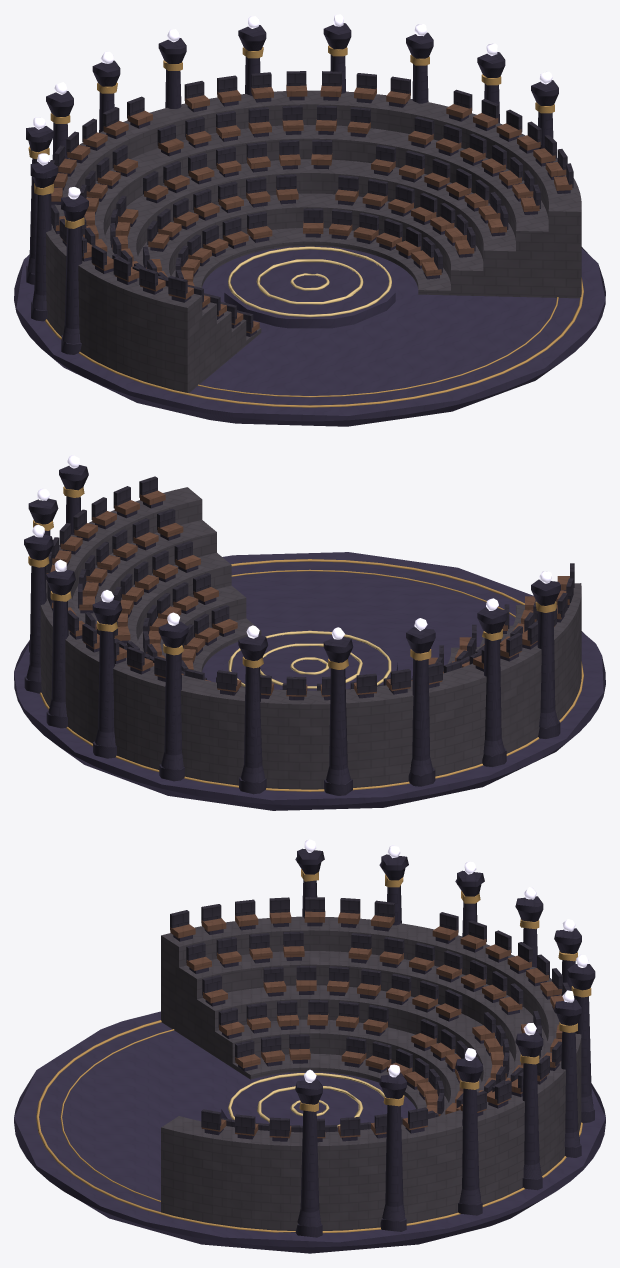
File: hecklebox-balcony-far.glb
3 renders of one model, top to bottom at view 1: azimuth 30°, elevation 25°; view 2: azimuth 150°, elevation 25°; view 3: azimuth 270°, elevation 25°, orthographic.
Parts seen in each view (by area): view 1: Hecklebox Balcony; view 2: Hecklebox Balcony; view 3: Hecklebox Balcony.
Boxes of the visible parts, x1=… form: Hecklebox Balcony: x1=14, y1=14, x2=605, y2=426; Hecklebox Balcony: x1=14, y1=455, x2=605, y2=810; Hecklebox Balcony: x1=14, y1=839, x2=605, y2=1253.
Bounding box in the file's own units: 16.5 × 5.48 × 16.5.
Materials: 8 (8 with a texture image).
